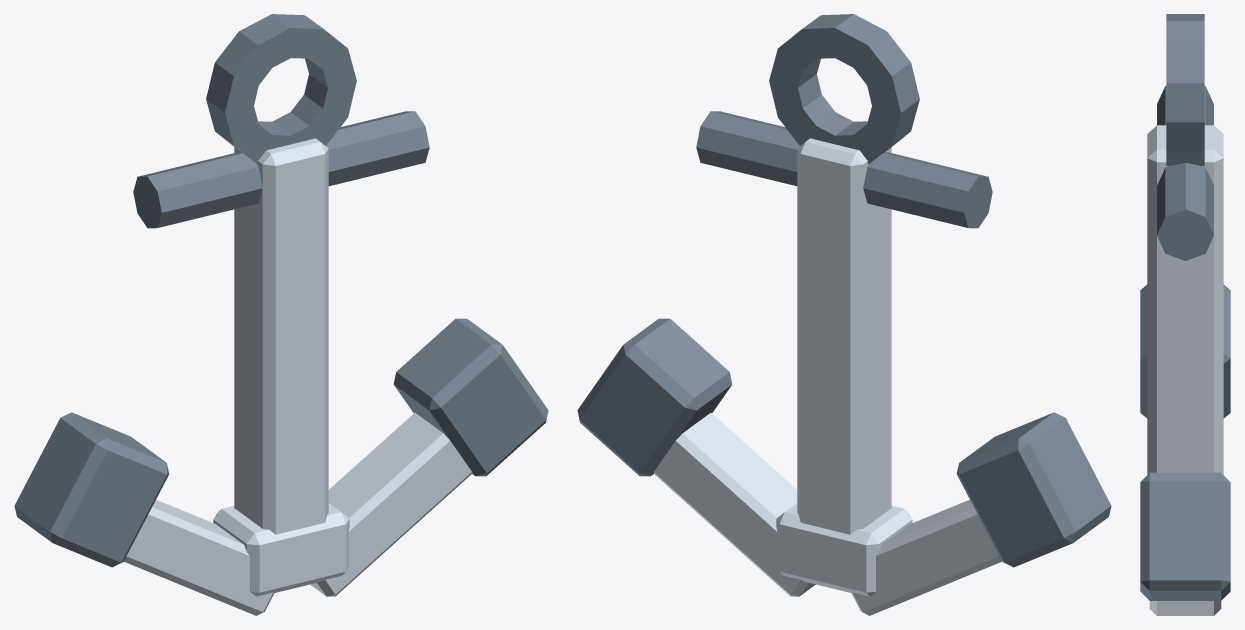
Rendered from item_anchor_chrome.fbx.
The picture shows the model from 3 angles, left to right: view 1: azimuth 30°, elevation 25°; view 2: azimuth 150°, elevation 25°; view 3: azimuth 270°, elevation 25°; orthographic projection.
Visible parts, largest first — view 1: item_anchor_chrome; view 2: item_anchor_chrome; view 3: item_anchor_chrome.
Boxes of the visible parts, x1,y1,x2,y2 form: item_anchor_chrome: (14,14,548,615); item_anchor_chrome: (577,14,1111,615); item_anchor_chrome: (1140,14,1230,615).
Bounding box in the file's own units: 2.42 × 2.67 × 0.38.
